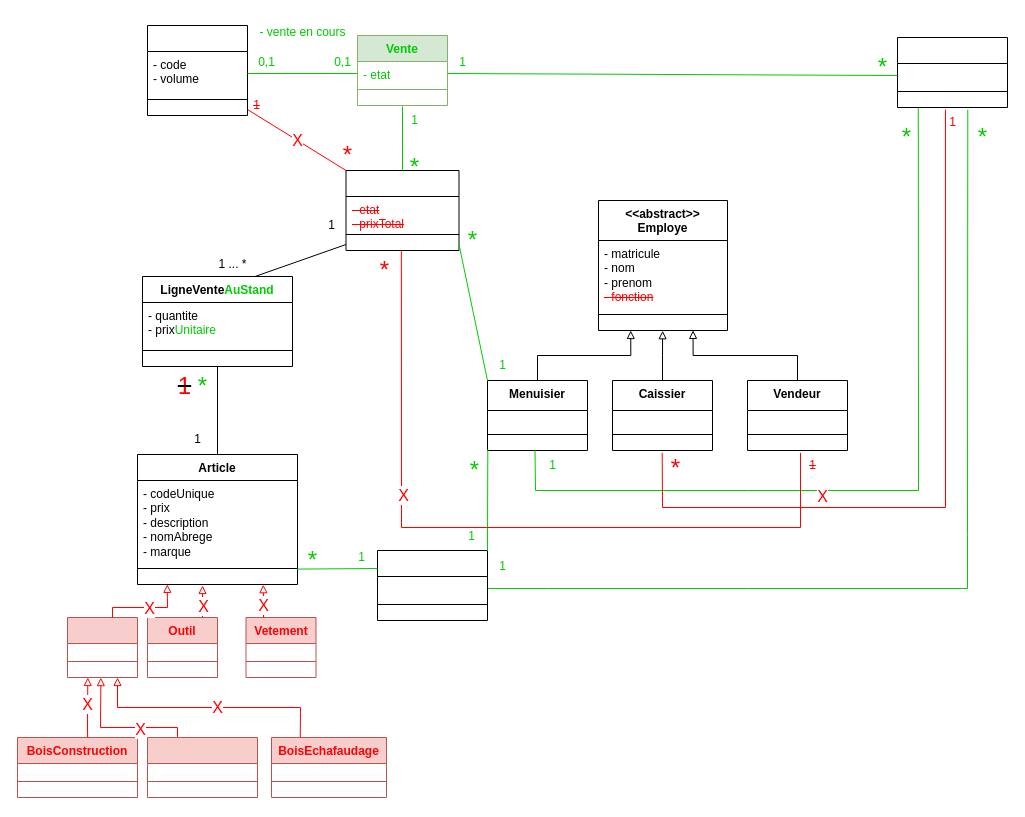
The diagram is 1025 pixels wide and 817 high, and some of its shapes have lost their labels. The box of each missing label's shape, as (x1, y1, x2, y2) in pixels:
Avertissement: (896, 36, 1008, 108)
Bois: (66, 616, 138, 678)
BoisMenuiserie: (146, 736, 258, 798)
Chariot: (146, 24, 248, 116)
Stand: (376, 550, 488, 620)
VenteAuStand: (345, 170, 459, 250)
